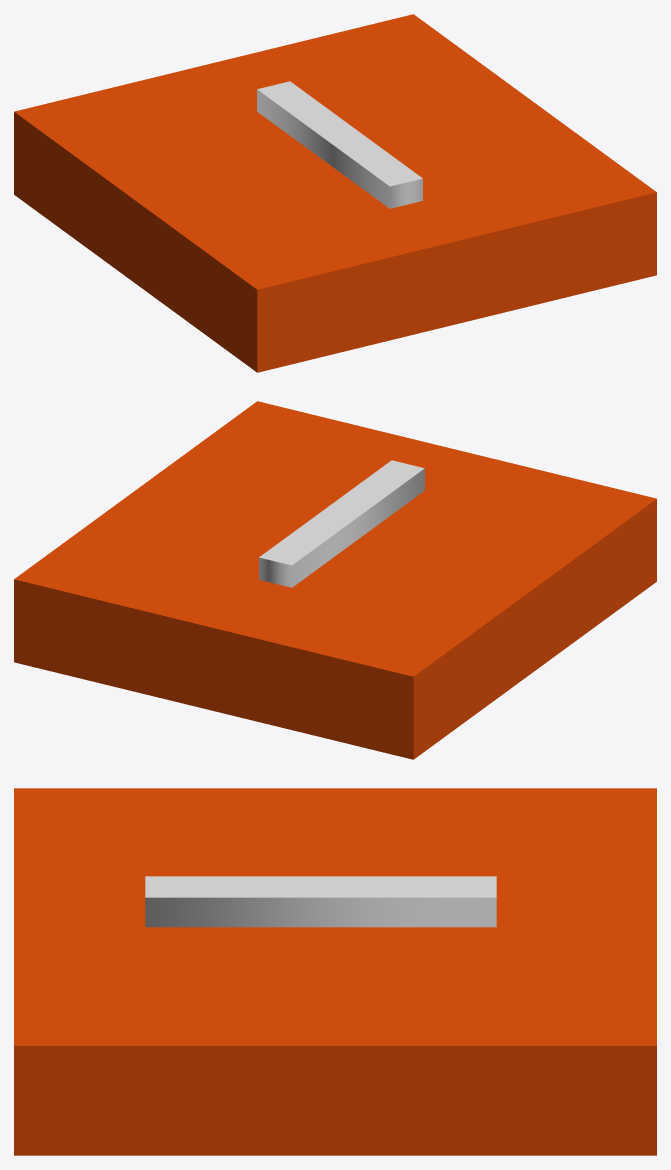
3 renders of one model, top to bottom at view 1: azimuth 30°, elevation 25°; view 2: azimuth 150°, elevation 25°; view 3: azimuth 270°, elevation 25°, orthographic. The views are drawn at different scales.
Visible parts, largest first — view 1: Куб, Текст; view 2: Куб, Текст; view 3: Куб, Текст.
Part boxes in pixels (box(x1,y1,x2,y2)): Куб: box(14, 14, 656, 372); Текст: box(257, 81, 422, 208); Куб: box(14, 401, 656, 759); Текст: box(259, 460, 424, 587); Куб: box(14, 788, 656, 1155); Текст: box(145, 876, 496, 927).
Bounding box in the file's own units: 118 × 29.82 × 125.
